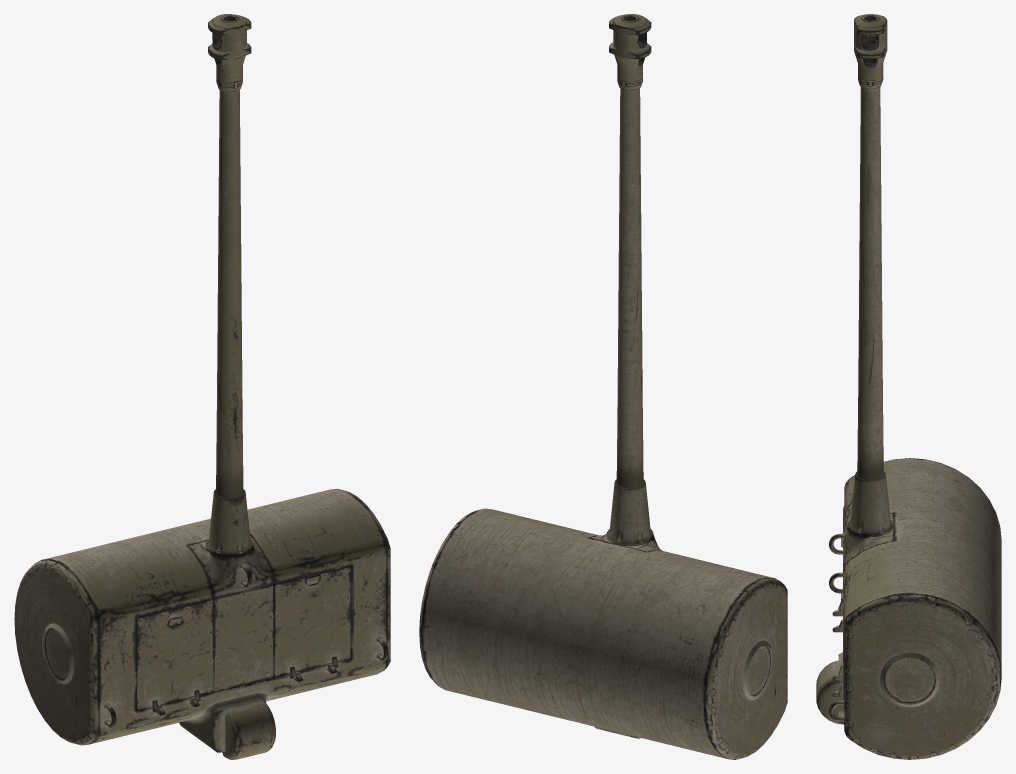
Rendered from Gun_02.glb.
3 views of the same model, side by side, from view 1: azimuth 30°, elevation 25°; view 2: azimuth 150°, elevation 25°; view 3: azimuth 270°, elevation 25° (orthographic). The views are drawn at different scales.
Visible parts, largest first — view 1: set_0_group_0; view 2: set_0_group_0; view 3: set_0_group_0.
Boxes of the visible parts, x1=… form: set_0_group_0: x1=14, y1=14, x2=390, y2=759; set_0_group_0: x1=419, y1=14, x2=787, y2=759; set_0_group_0: x1=816, y1=14, x2=1001, y2=759.
Size of the model in its own units: 2.34 by 5.29 by 1.27.
Materials: 1 (1 with a texture image).
